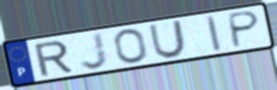I: (205, 13, 223, 53)
J: (79, 31, 111, 71)
O: (112, 27, 150, 64)
P: (227, 9, 262, 50)
R: (32, 39, 75, 78)
U: (147, 19, 188, 60)
